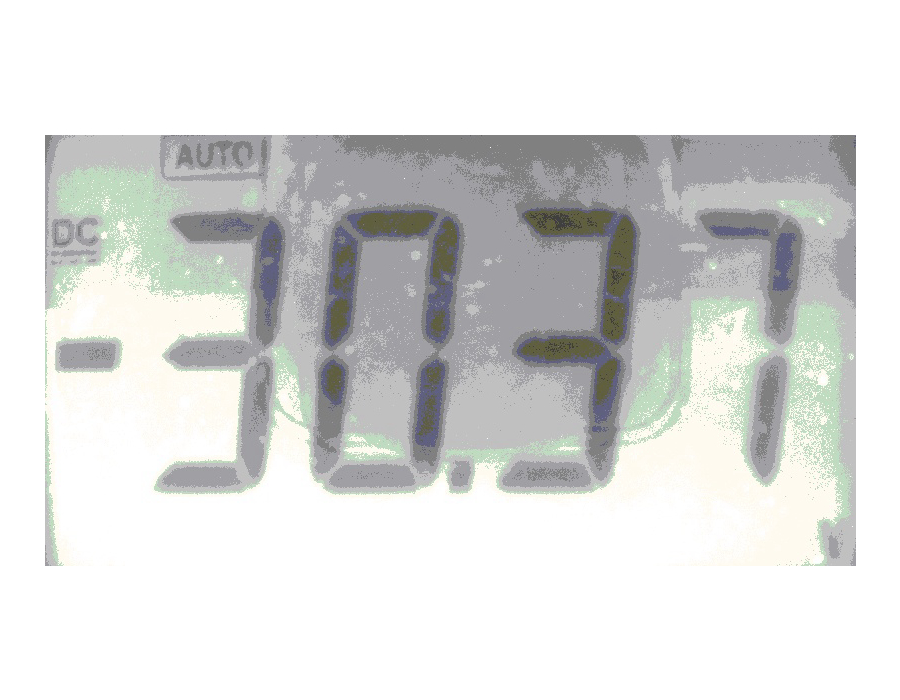.: (443, 454, 483, 500), (446, 458, 476, 493)
0: (308, 204, 466, 498)
3: (499, 207, 639, 491), (152, 210, 289, 496)
7: (695, 209, 806, 481)
